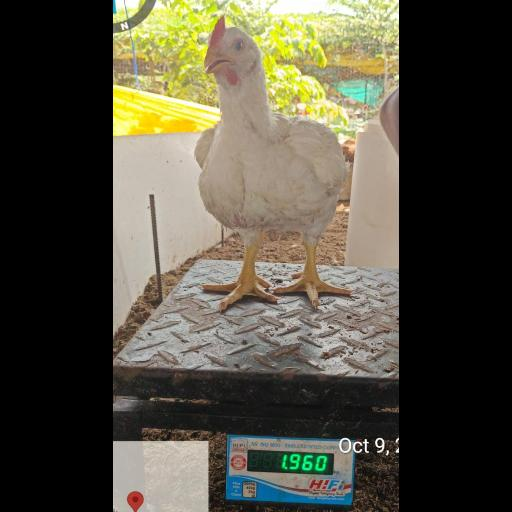chick: (196, 20, 351, 309)
